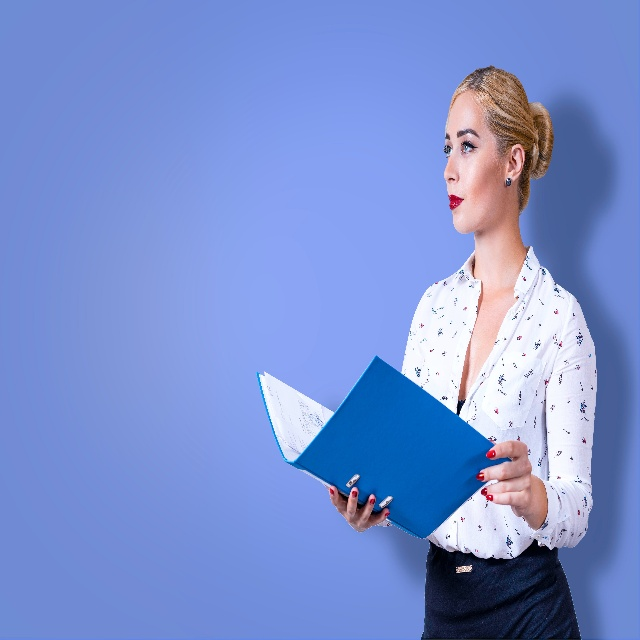Sin_guantes: (477, 437, 532, 519), (329, 484, 390, 532)
